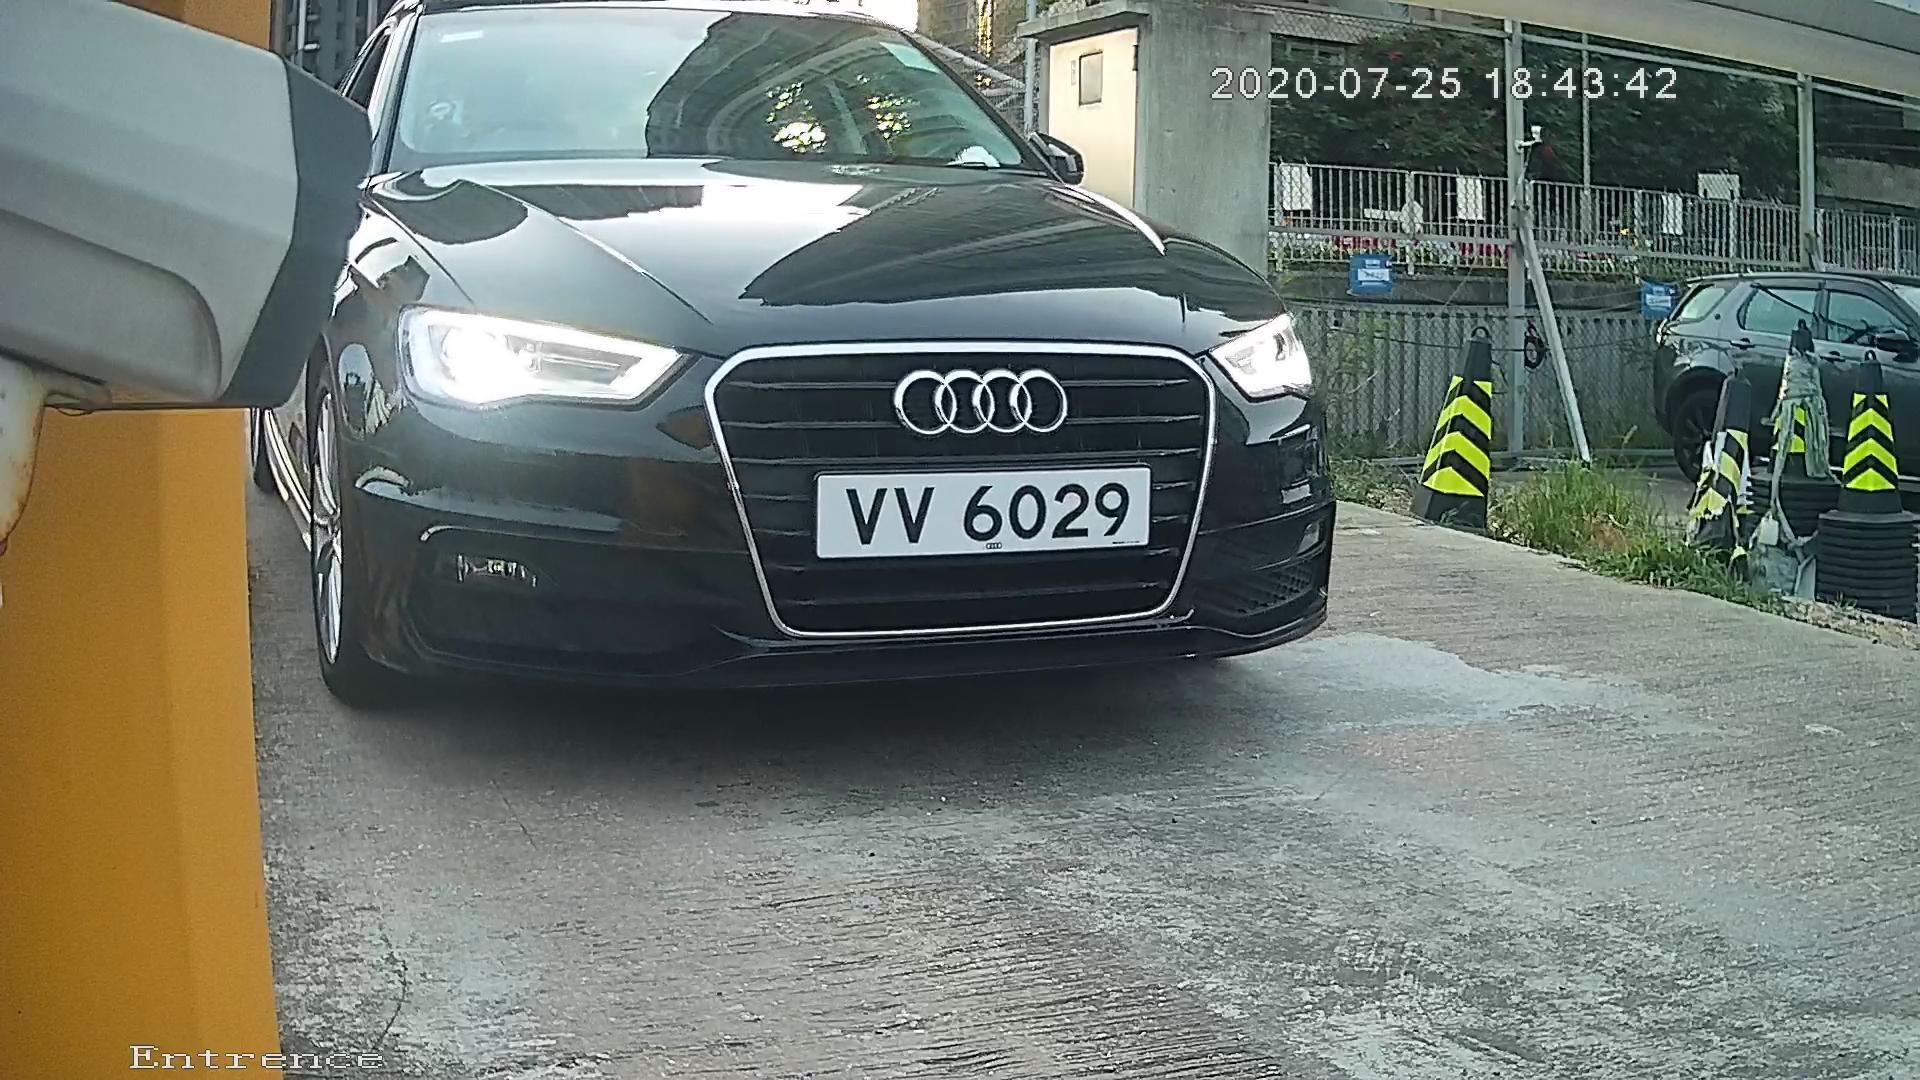privatecar: (223, 1, 1543, 796)
